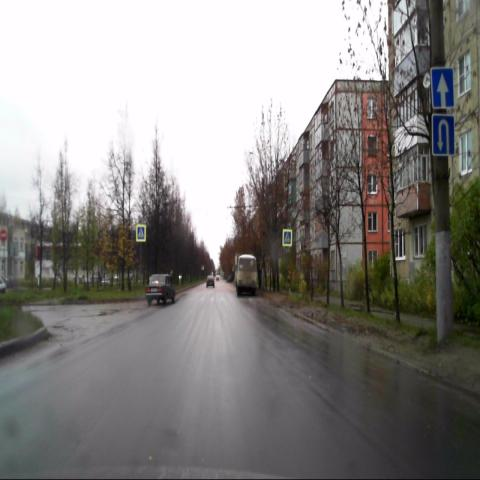6_3_1: (432, 115, 454, 155)
